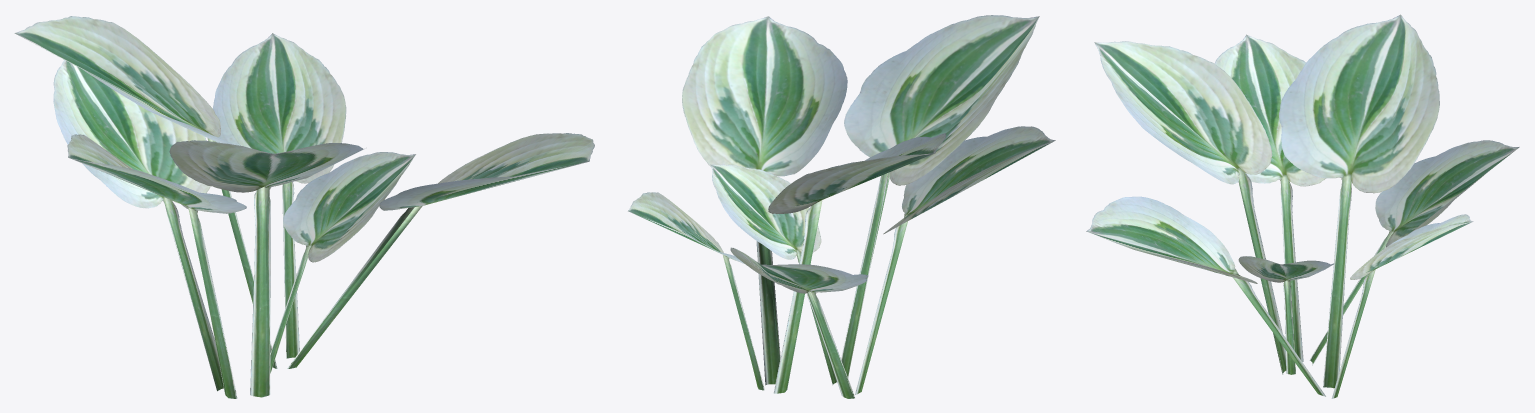
File: plant_small_wg_01V.fbx
3 renders of one model, left to right at view 1: azimuth 30°, elevation 25°; view 2: azimuth 150°, elevation 25°; view 3: azimuth 270°, elevation 25°, orthographic. The views are drawn at different scales.
Parts seen in each view (by area): view 1: plant_small_wg_01V; view 2: plant_small_wg_01V; view 3: plant_small_wg_01V.
Part boxes in pixels (x1,y1,x2,y2): plant_small_wg_01V: (14, 16, 594, 398); plant_small_wg_01V: (628, 15, 1055, 398); plant_small_wg_01V: (1086, 14, 1519, 398).
Bounding box in the file's own units: 64.83 × 47.73 × 65.32.
